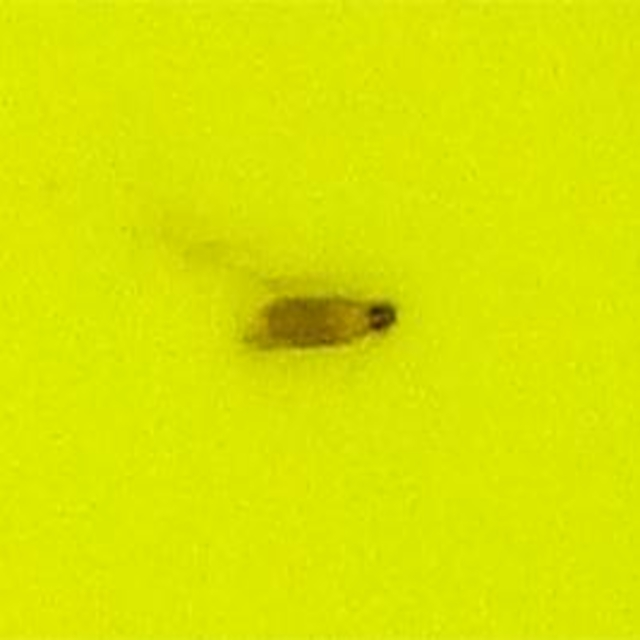Trichoptera: (240, 283, 400, 357)
